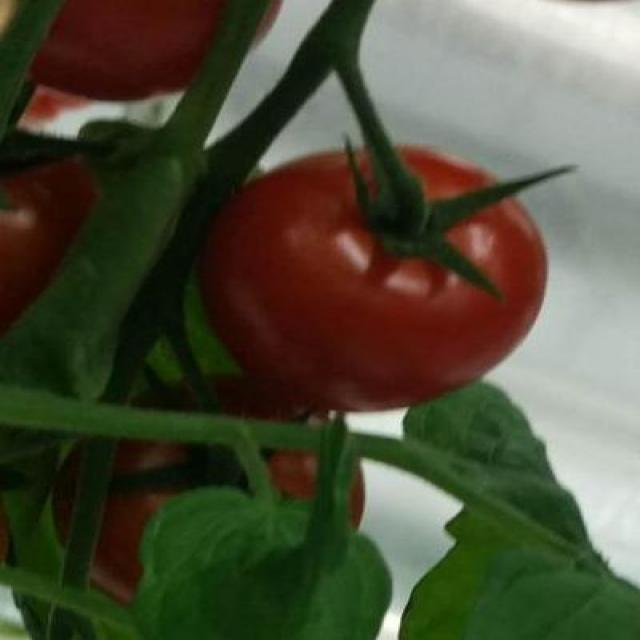tomato: (199, 149, 546, 411), (54, 376, 361, 613), (32, 0, 290, 100)
